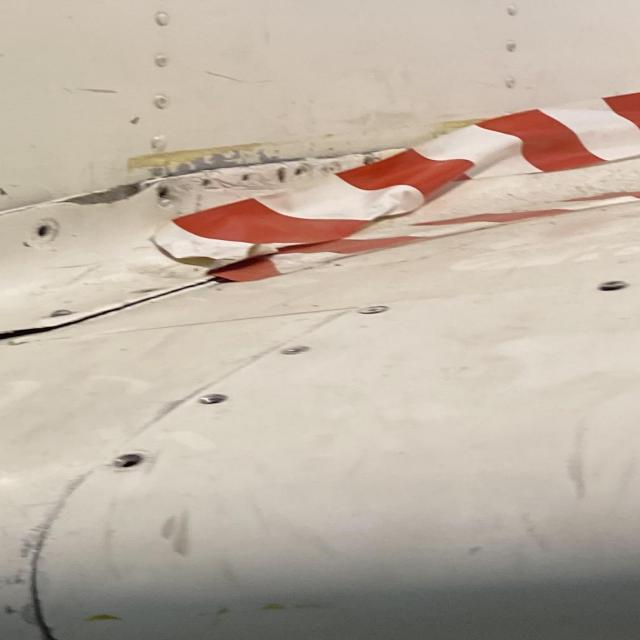Crack: (0, 319, 65, 343)
Missing-head: (113, 453, 147, 471), (32, 221, 58, 244), (199, 394, 229, 405)
